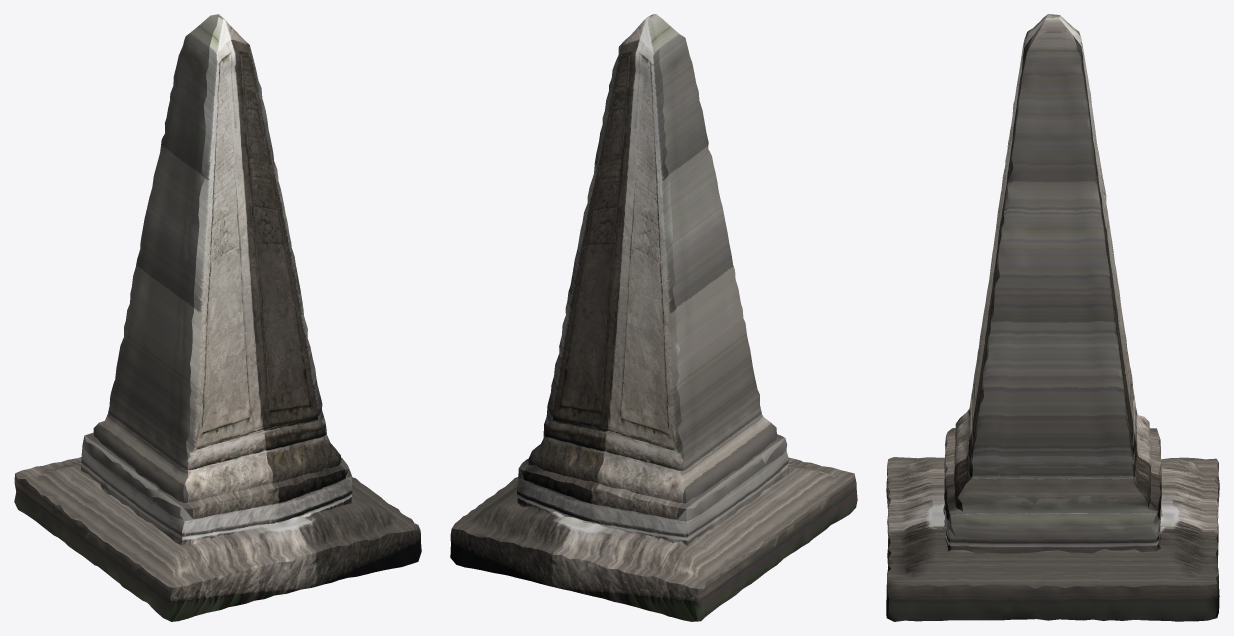
File: obelisk.glb
3 views of the same model, side by side, from view 1: azimuth 30°, elevation 25°; view 2: azimuth 150°, elevation 25°; view 3: azimuth 270°, elevation 25° (orthographic). The views are drawn at different scales.
Visible parts, largest first — view 1: geometry_0; view 2: geometry_0; view 3: geometry_0.
Part boxes in pixels (bbox=[...]): geometry_0: bbox=[14, 14, 421, 621]; geometry_0: bbox=[450, 14, 857, 621]; geometry_0: bbox=[886, 14, 1219, 621].
Size of the model in its own units: 1.43 by 2.8 by 1.56.
1 material, 1 textured.
